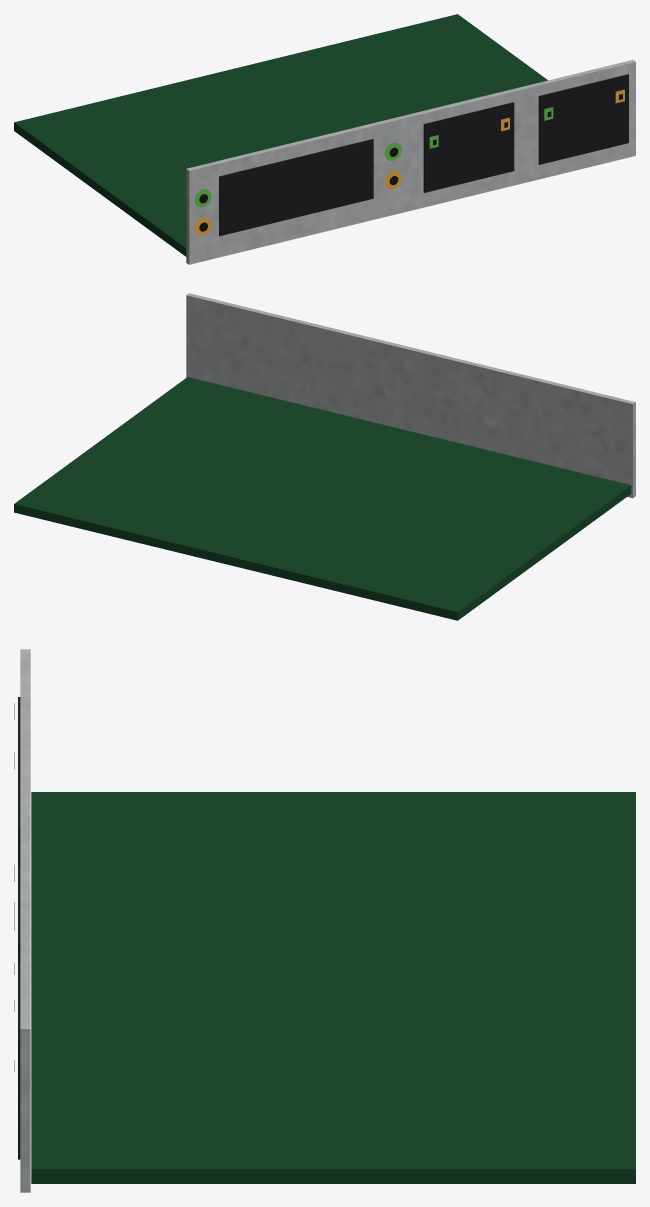
Rendered from 540-BBUR.far.glb.
3 views of the same model, one above another, from view 1: azimuth 30°, elevation 25°; view 2: azimuth 150°, elevation 25°; view 3: azimuth 270°, elevation 25° (orthographic). The views are drawn at different scales.
Visible parts, largest first — view 1: Card_far; view 2: Card_far; view 3: Card_far.
Part boxes in pixels (x1,y1,x2,y2): Card_far: (14,14,635,264); Card_far: (14,293,635,620); Card_far: (18,649,635,1192).
Bounding box in the file's own units: 0.0876 × 0.0176 × 0.0606.
3 materials, 2 textured.
